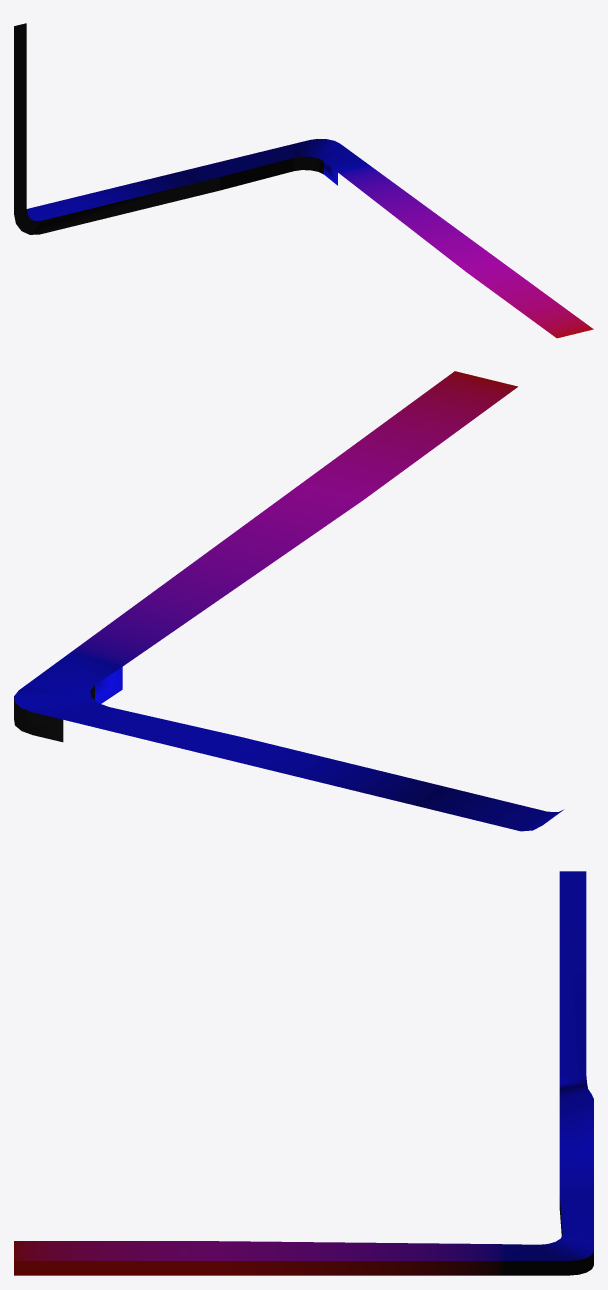
File: PowerflowGrid.glb
3 views of the same model, one above another, from view 1: azimuth 30°, elevation 25°; view 2: azimuth 150°, elevation 25°; view 3: azimuth 270°, elevation 25° (orthographic). The views are drawn at different scales.
Parts seen in each view (by area): view 1: PowerflowGrid-1-A001; view 2: PowerflowGrid-1-A001; view 3: PowerflowGrid-1-A001.
Boxes of the visible parts, <box> form: PowerflowGrid-1-A001: <box>14,23,593,338</box>; PowerflowGrid-1-A001: <box>14,371,564,831</box>; PowerflowGrid-1-A001: <box>14,871,593,1275</box>.
Size of the model in its own units: 0.5157 by 0.32 by 0.7167.
